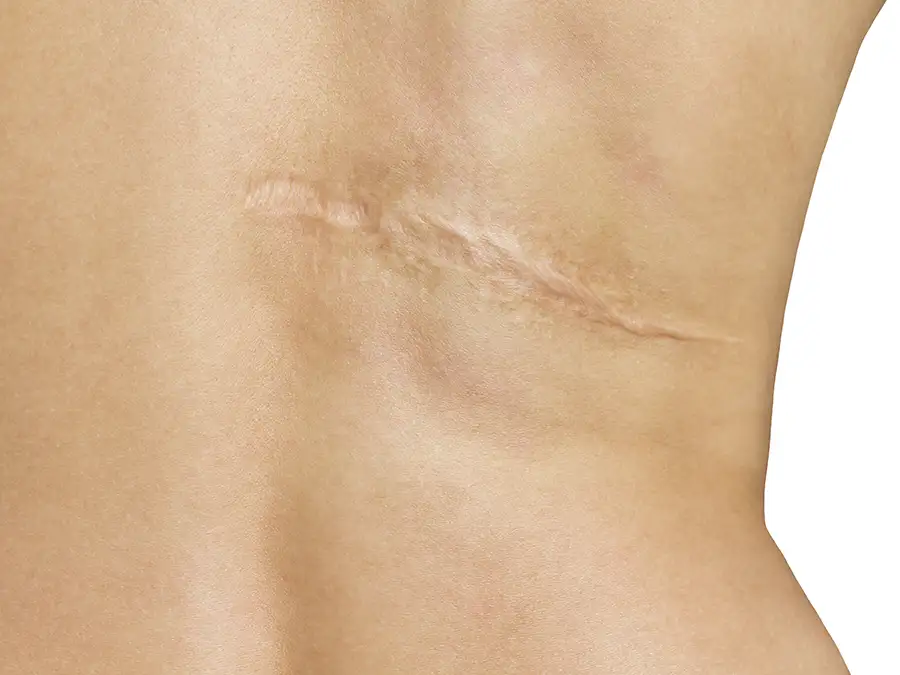scar: (236, 166, 751, 354)
